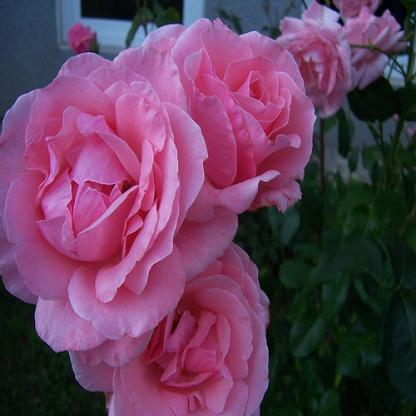ROSE-MAWAR: (2, 10, 317, 416)
